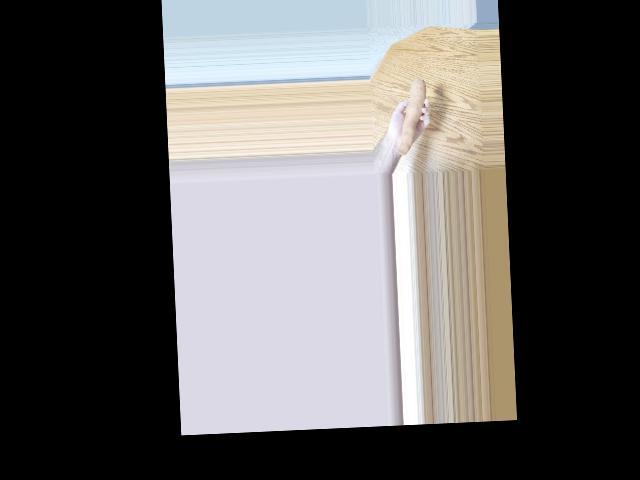sweet_potato: (398, 81, 430, 151)
